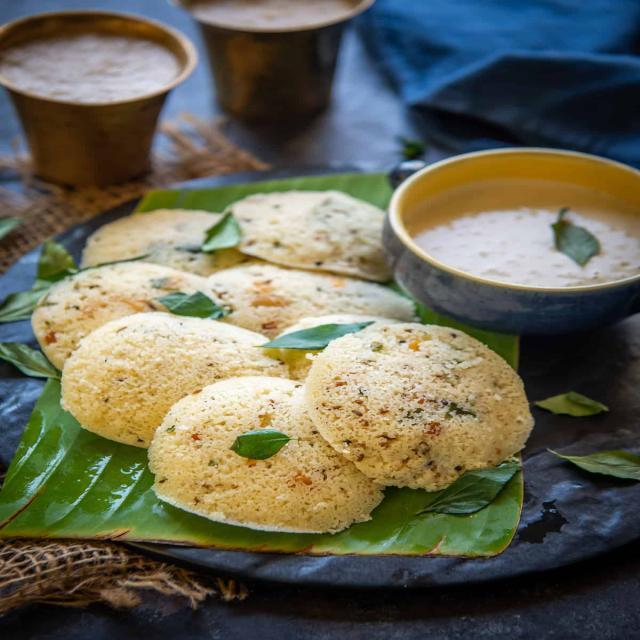idli: (303, 314, 541, 494), (154, 371, 395, 536), (65, 308, 298, 458), (33, 258, 251, 376), (203, 259, 421, 353), (73, 202, 264, 289), (230, 186, 406, 275)
